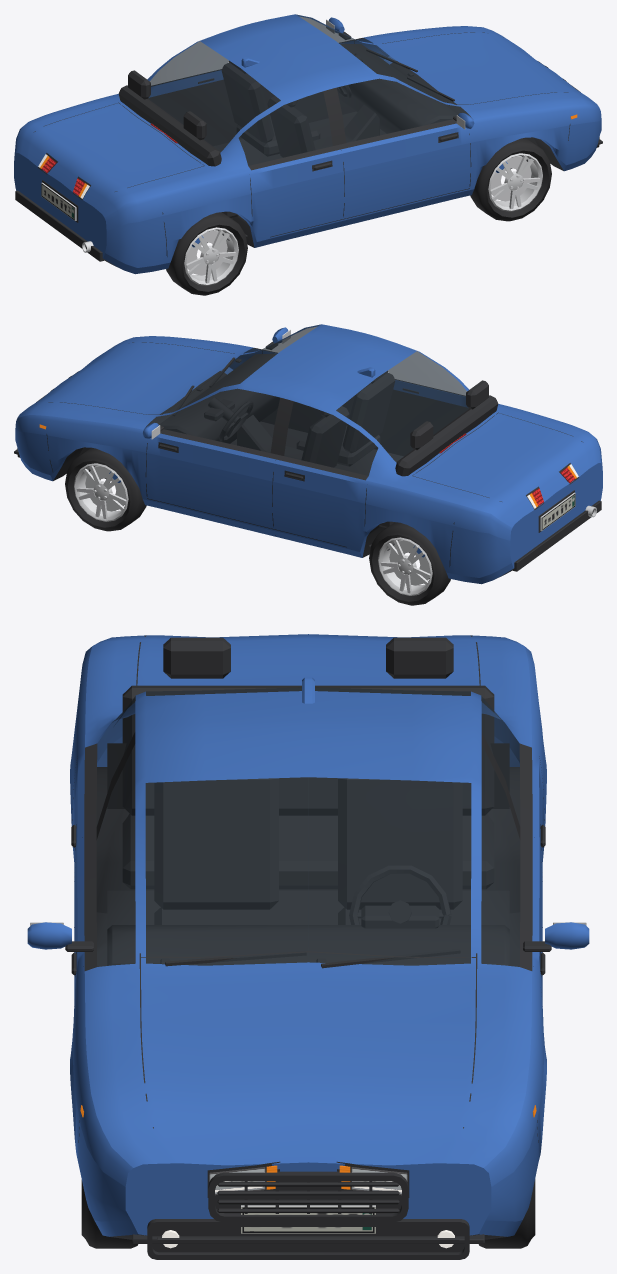
File: car_sedan.glb
The picture shows the model from 3 angles, top to bottom: view 1: azimuth 30°, elevation 25°; view 2: azimuth 150°, elevation 25°; view 3: azimuth 270°, elevation 25°; orthographic projection. The views are drawn at different scales.
Parts seen in each view (by area): view 1: Body, Wheel_RR, Wheel_FR; view 2: Body, Wheel_RL, Wheel_FL; view 3: Body, Wheel_FL, Wheel_FR.
Part boxes in pixels (x1,y1,x2,y2): Body: [14, 14, 602, 274]; Wheel_RR: [166, 212, 247, 295]; Wheel_FR: [470, 137, 551, 221]; Body: [14, 324, 602, 584]; Wheel_RL: [369, 522, 450, 605]; Wheel_FL: [65, 447, 146, 531]; Body: [27, 634, 589, 1259]; Wheel_FL: [478, 1179, 535, 1248]; Wheel_FR: [81, 1180, 138, 1248].
Size of the model in its own units: 4.49 by 1.49 by 2.16.
Materials: 7 (3 with a texture image).
